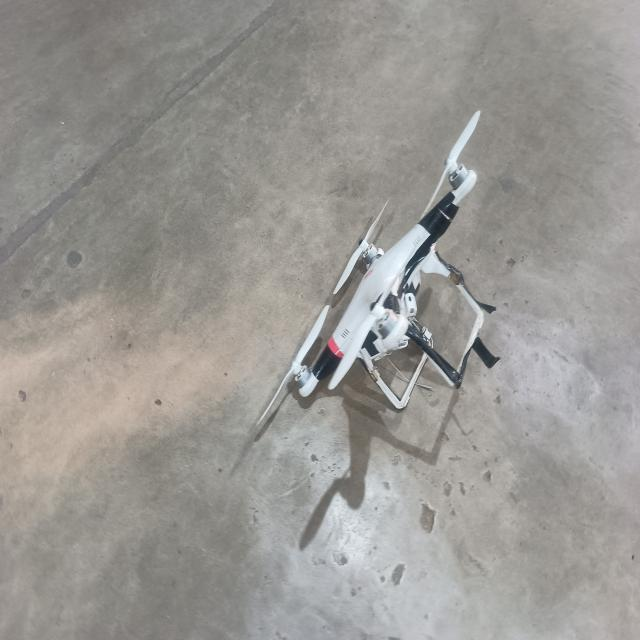drone: (242, 86, 529, 475)
